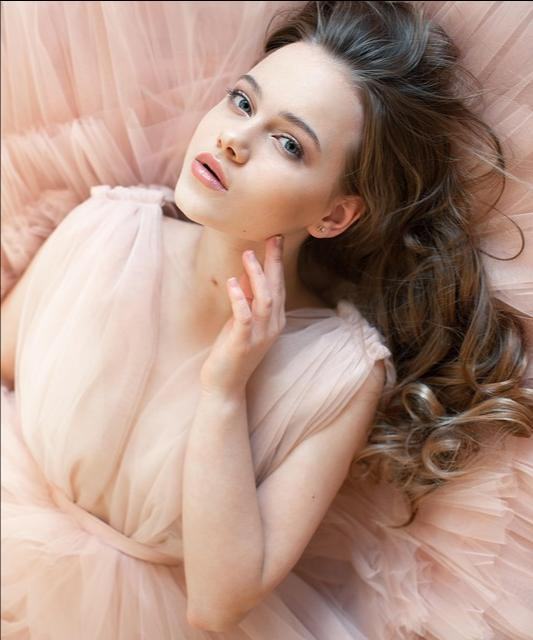Non_Gorille: (10, 20, 525, 640)
